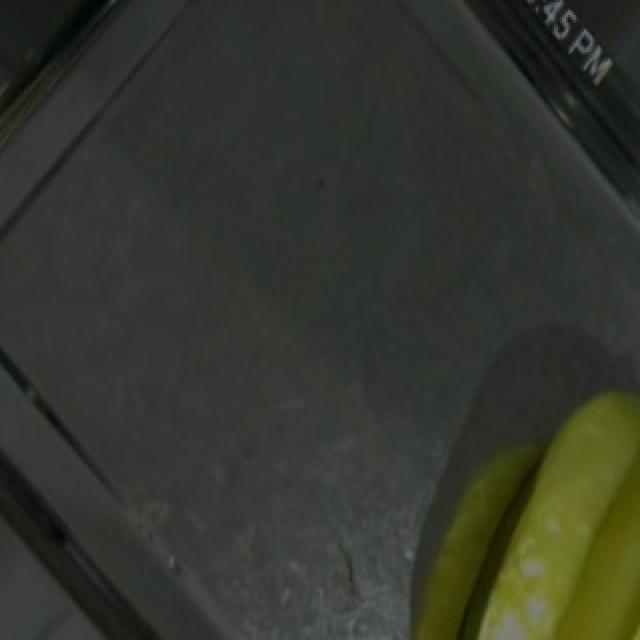fruit: (470, 357, 640, 640)
